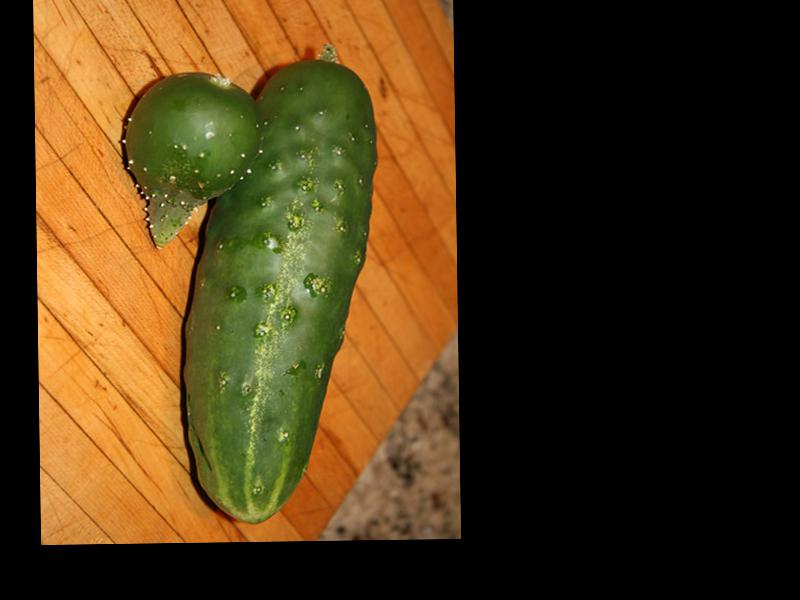Cucumber: (177, 58, 382, 525)
